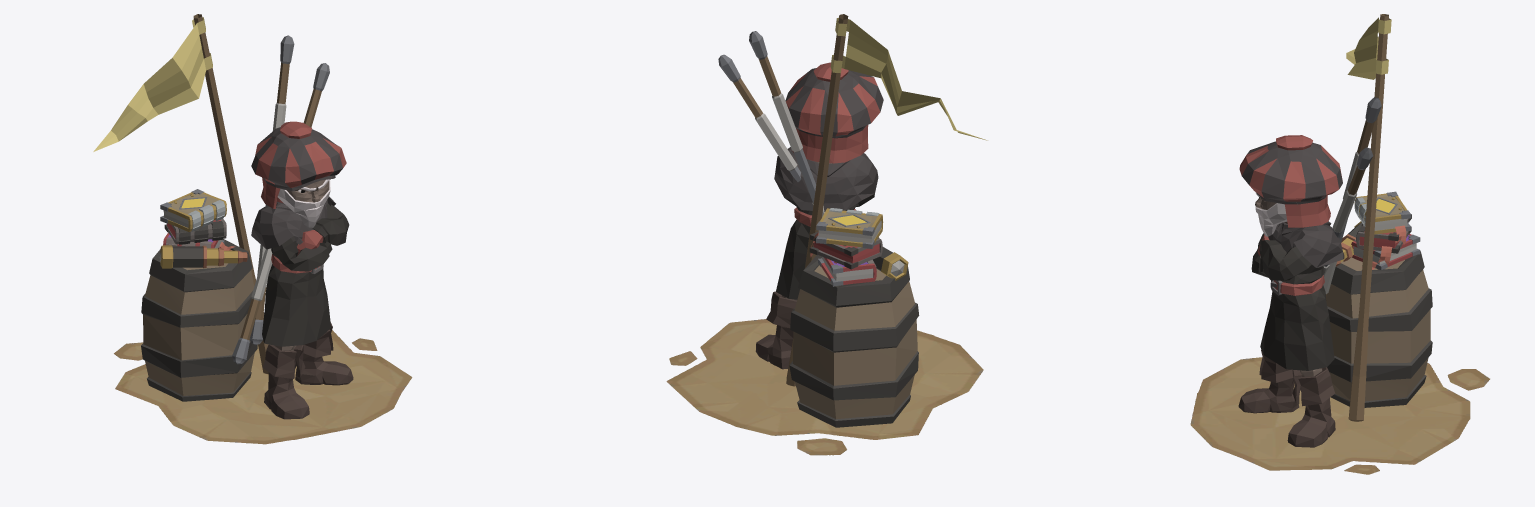
Rendered from trainer.fbx.
3 views of the same model, side by side, from view 1: azimuth 30°, elevation 25°; view 2: azimuth 150°, elevation 25°; view 3: azimuth 270°, elevation 25° (orthographic). The views are drawn at different scales.
Parts seen in each view (by area): view 1: trainer, groundDecal; view 2: trainer, groundDecal; view 3: trainer, groundDecal.
Part boxes in pixels (x1,y1,x2,y2): trainer: (93,14,353,419); groundDecal: (114,330,412,444); trainer: (718,14,987,427); groundDecal: (666,319,983,455); trainer: (1238,14,1432,447); groundDecal: (1190,357,1489,474).
Bounding box in the file's own units: 2.94 × 3.2 × 2.93.
